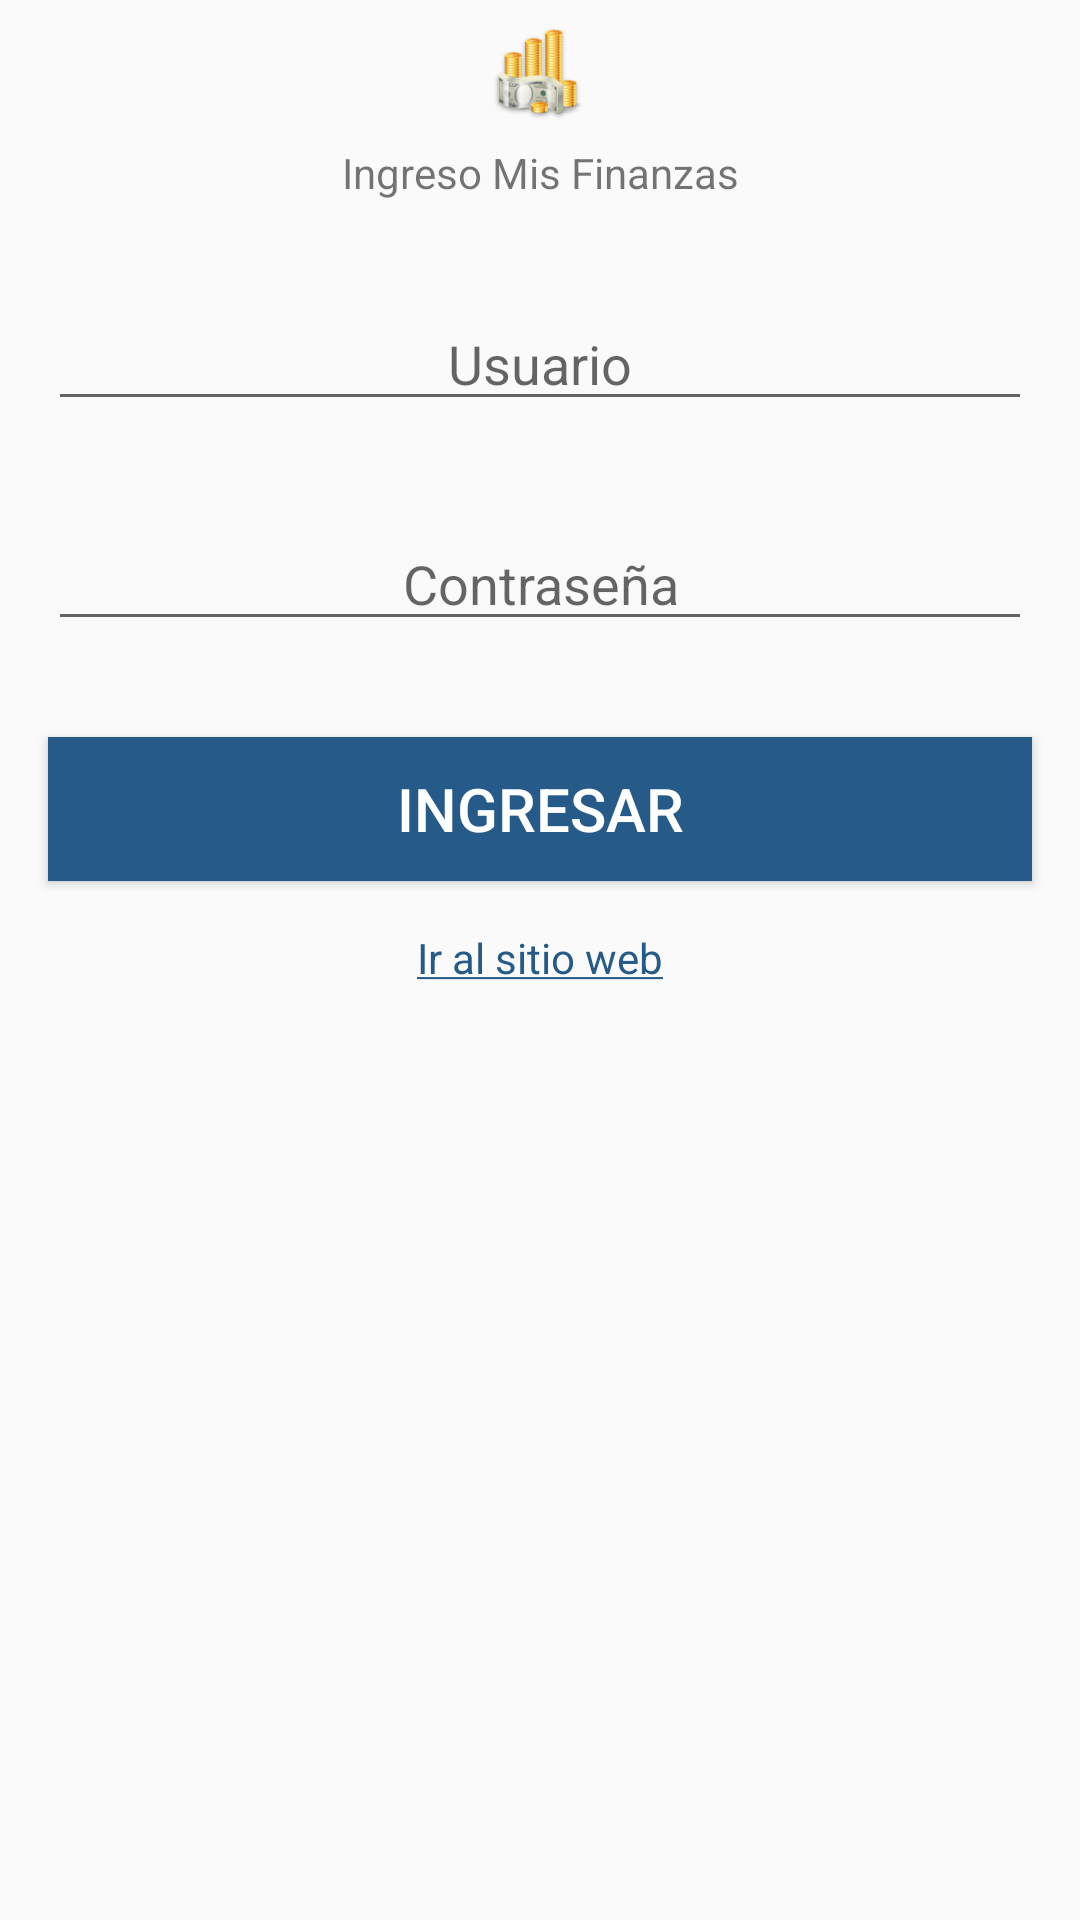

Icons on this 1080x1920 Android screen, each with its box as rect(x1, y1, x2, y2):
money: rect(497, 29, 579, 116)
